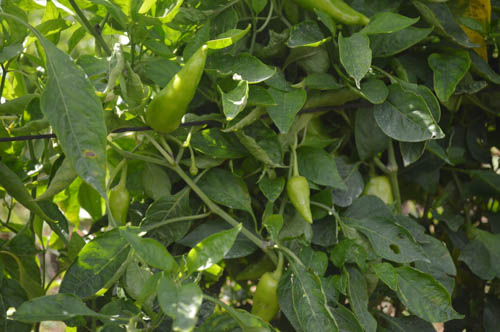ChiliPepper: (143, 45, 206, 137), (247, 273, 284, 322), (289, 178, 313, 220), (106, 187, 130, 224), (364, 170, 390, 204)
